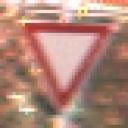preferencia: (18, 19, 116, 109)
